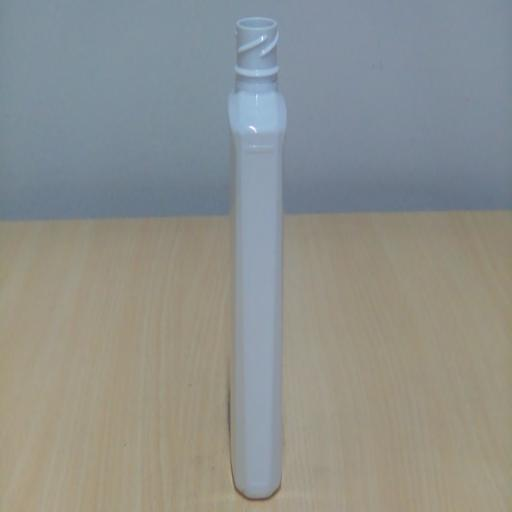Good: (220, 8, 299, 510)
